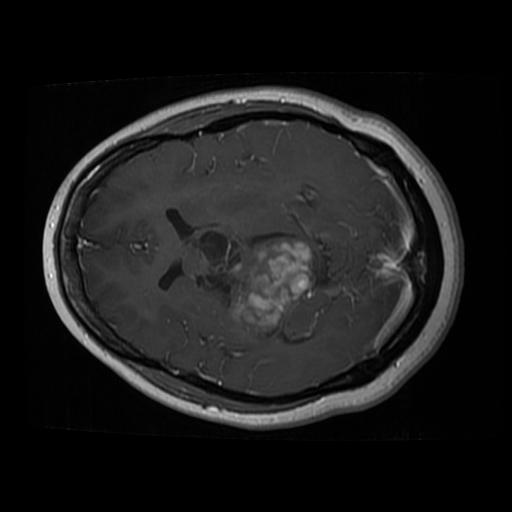glioma: (223, 233, 314, 339)
